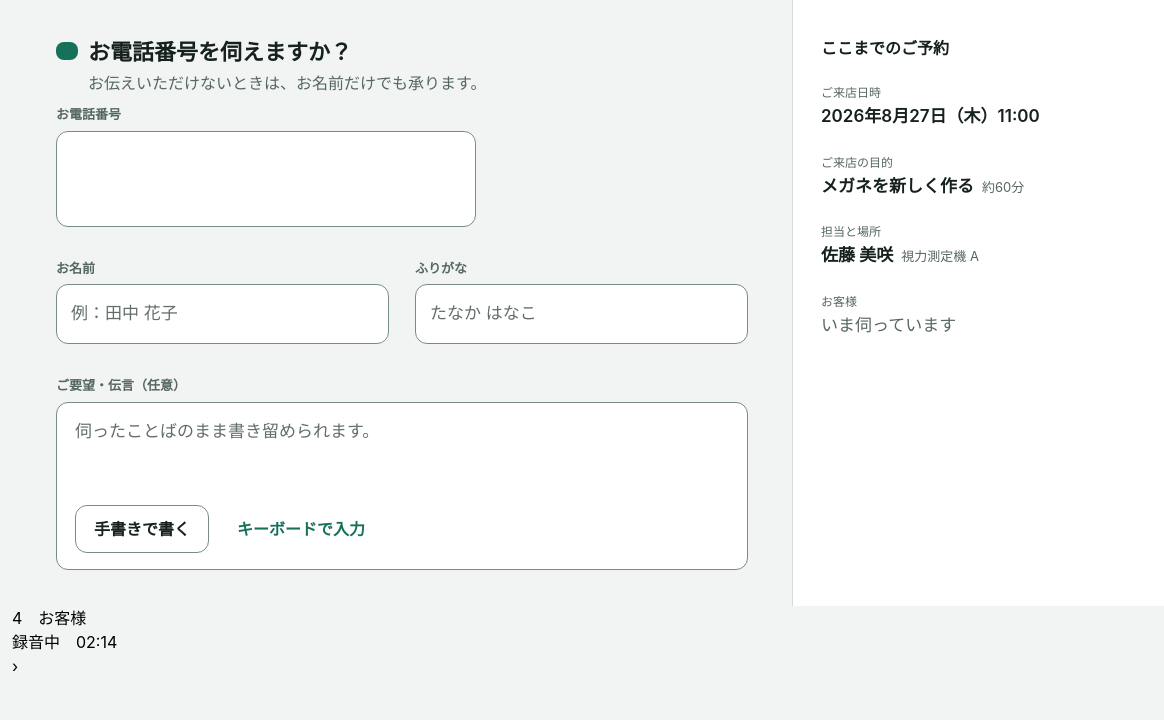
Test: ふりがな › 変換が確定すると 1 度だけ埋まり、「自動で入れました」の 1 行が出る
Type "たなか" into the field labelled "お名前" at (222, 314), box [56,284,389,344]
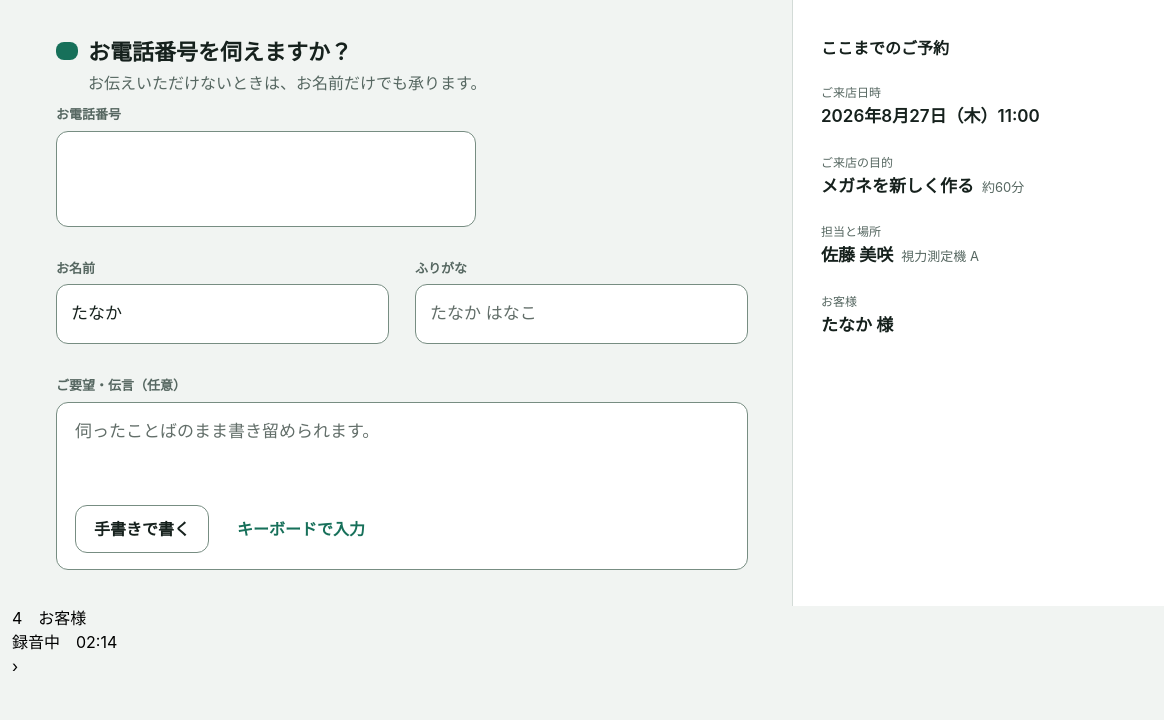
Replace the text in the field labelled "お名前" with "田中" at (222, 314), box [56,284,389,344]
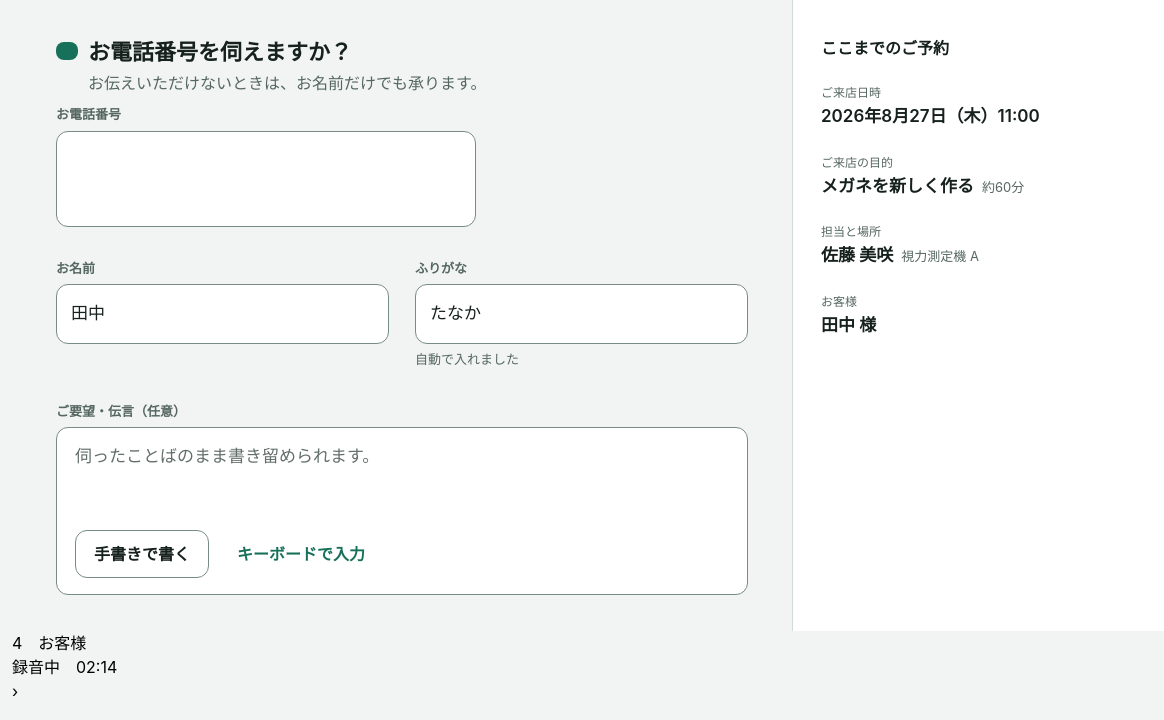
expect the field labelled "ふりがな" holds "たなか": met, box [415,284,748,344]
expect the text "自動で入れました" is shown: met, box [415,351,519,367]
